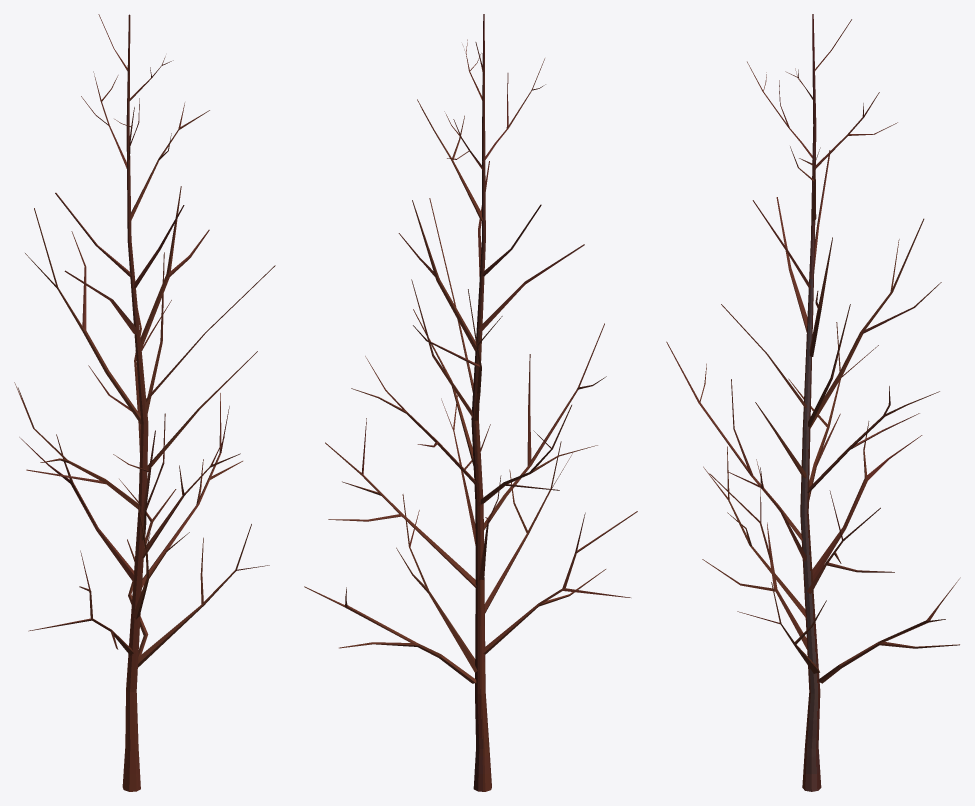
File: Dead_Tree_02.fbx
3 renders of one model, left to right at view 1: azimuth 30°, elevation 25°; view 2: azimuth 150°, elevation 25°; view 3: azimuth 270°, elevation 25°, orthographic.
Parts seen in each view (by area): view 1: SM_Town_Tree_Dead_02.mo; view 2: SM_Town_Tree_Dead_02.mo; view 3: SM_Town_Tree_Dead_02.mo.
Part boxes in pixels (left/top/right/bottom): SM_Town_Tree_Dead_02.mo: left=14, top=14, right=275, bottom=791; SM_Town_Tree_Dead_02.mo: left=304, top=14, right=637, bottom=791; SM_Town_Tree_Dead_02.mo: left=666, top=14, right=960, bottom=791.
Bounding box in the file's own units: 207 × 605 × 209.
Materials: 1 (1 with a texture image).
